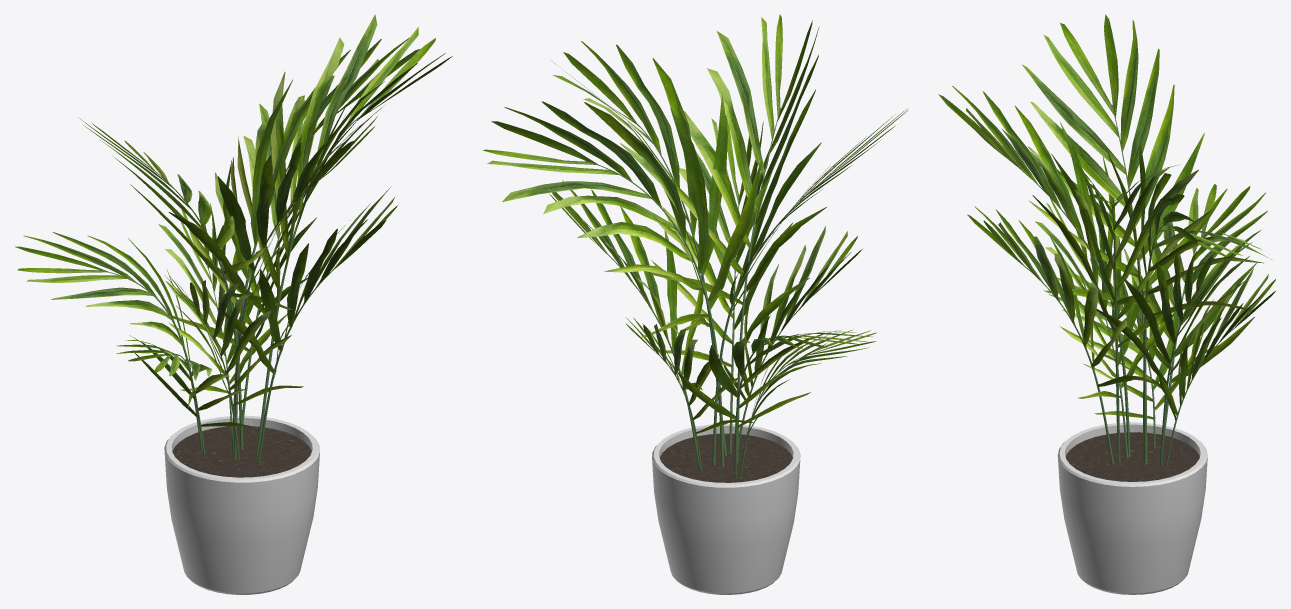
The model's file is plant1.glb.
The picture shows the model from 3 angles, left to right: view 1: azimuth 30°, elevation 25°; view 2: azimuth 150°, elevation 25°; view 3: azimuth 270°, elevation 25°; orthographic projection. The views are drawn at different scales.
Visible parts, largest first — view 1: Palm_01; view 2: Palm_01; view 3: Palm_01.
Boxes of the visible parts, bbox=[...] form: Palm_01: bbox=[15, 14, 452, 594]; Palm_01: bbox=[482, 14, 908, 594]; Palm_01: bbox=[938, 14, 1276, 594].
Bounding box in the file's own units: 0.3526 × 0.4314 × 0.2716.
4 materials, 2 textured.
